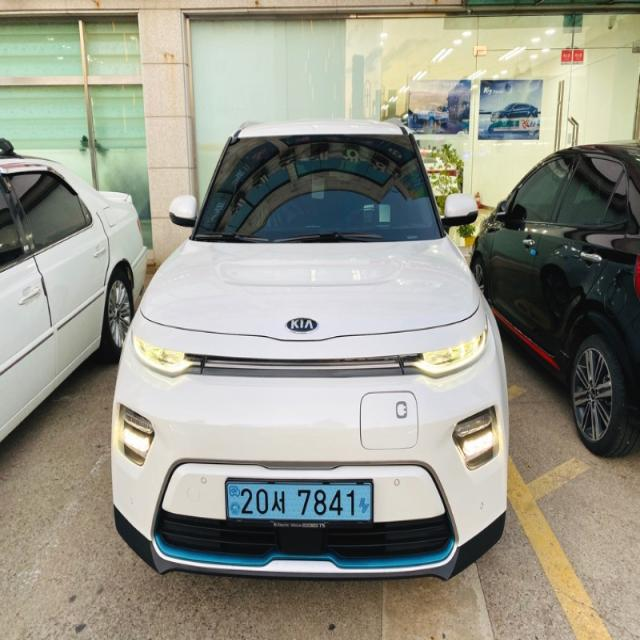EV_plate: (222, 477, 380, 529)
car: (105, 115, 512, 588)
